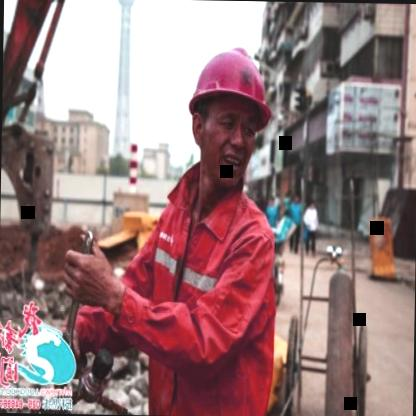helmet: (170, 33, 277, 193)
